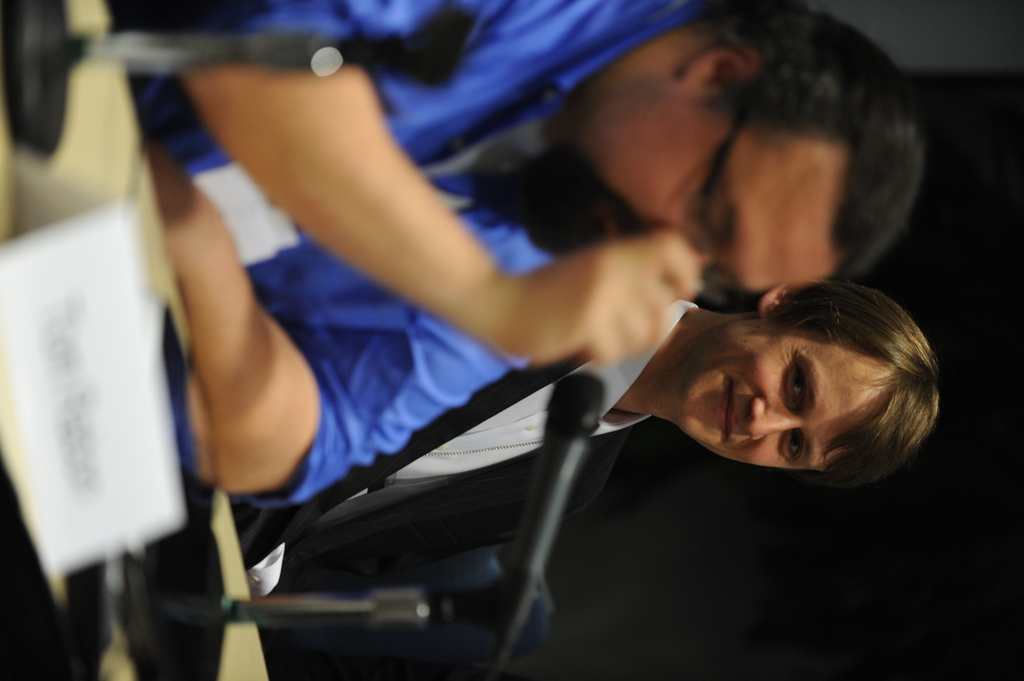face: (555, 6, 746, 216)
